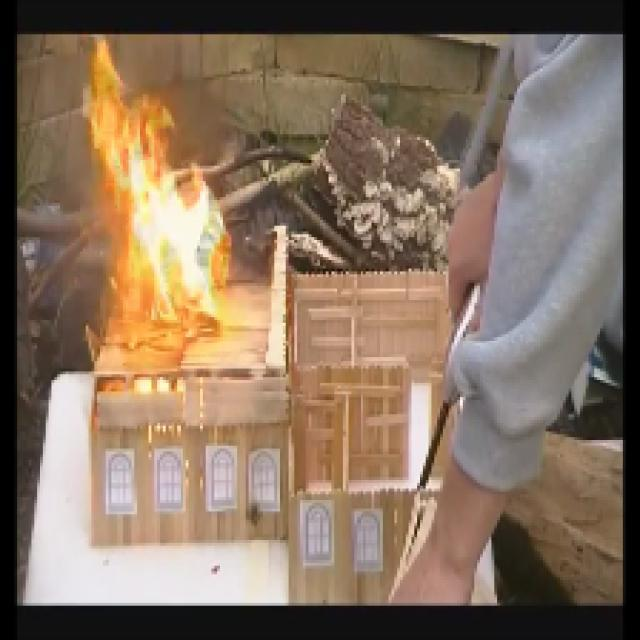Fire: (78, 53, 214, 360)
